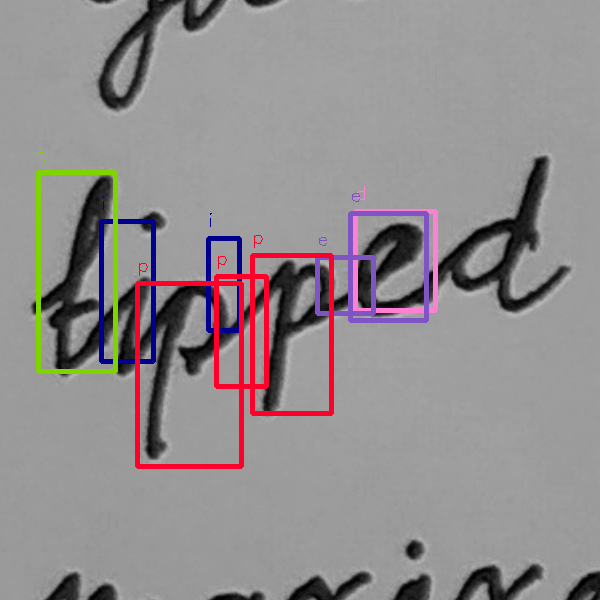d: (440, 149, 577, 318)
e: (346, 216, 431, 321)
i: (105, 205, 171, 378)
p: (137, 275, 235, 469), (253, 255, 340, 421)
t: (46, 169, 117, 380)
